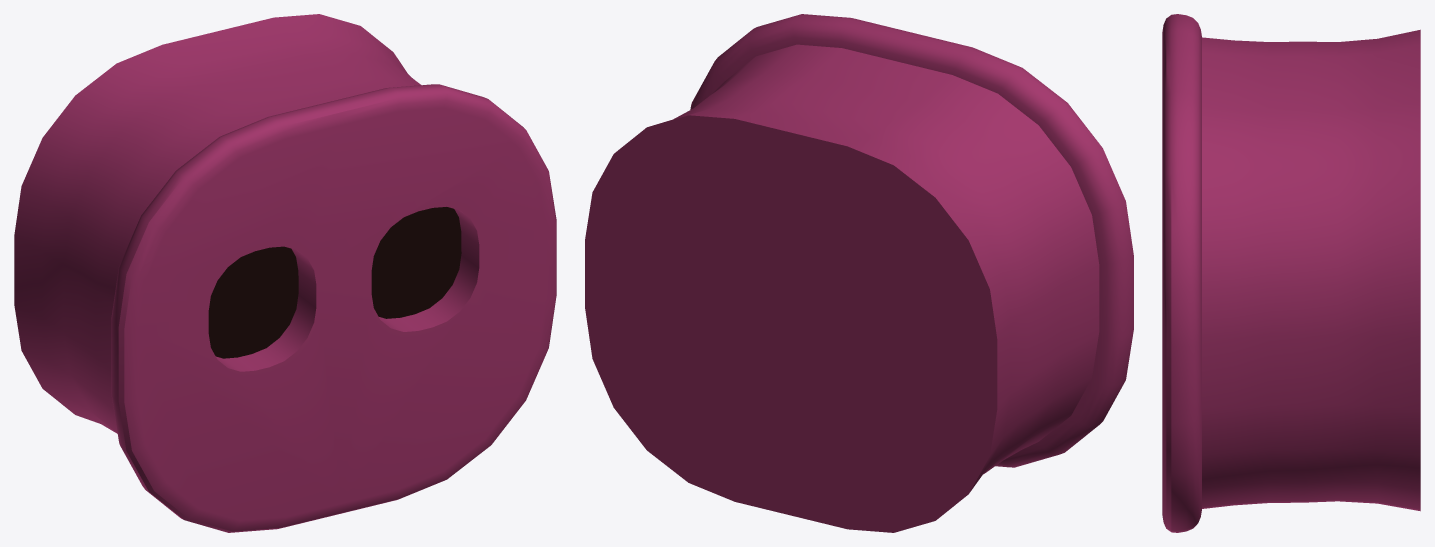
File: Pig_Nose.gltf
3 renders of one model, left to right at view 1: azimuth 30°, elevation 25°; view 2: azimuth 150°, elevation 25°; view 3: azimuth 270°, elevation 25°, orthographic. The views are drawn at different scales.
Parts seen in each view (by area): view 1: Cube.6235; view 2: Cube.6235; view 3: Cube.6235.
Boxes of the visible parts, x1,y1,x2,y2 form: Cube.6235: (14, 14, 556, 532); Cube.6235: (585, 14, 1133, 532); Cube.6235: (1162, 14, 1420, 532).
Bounding box in the file's own units: 1.39 × 1.23 × 0.6781.
